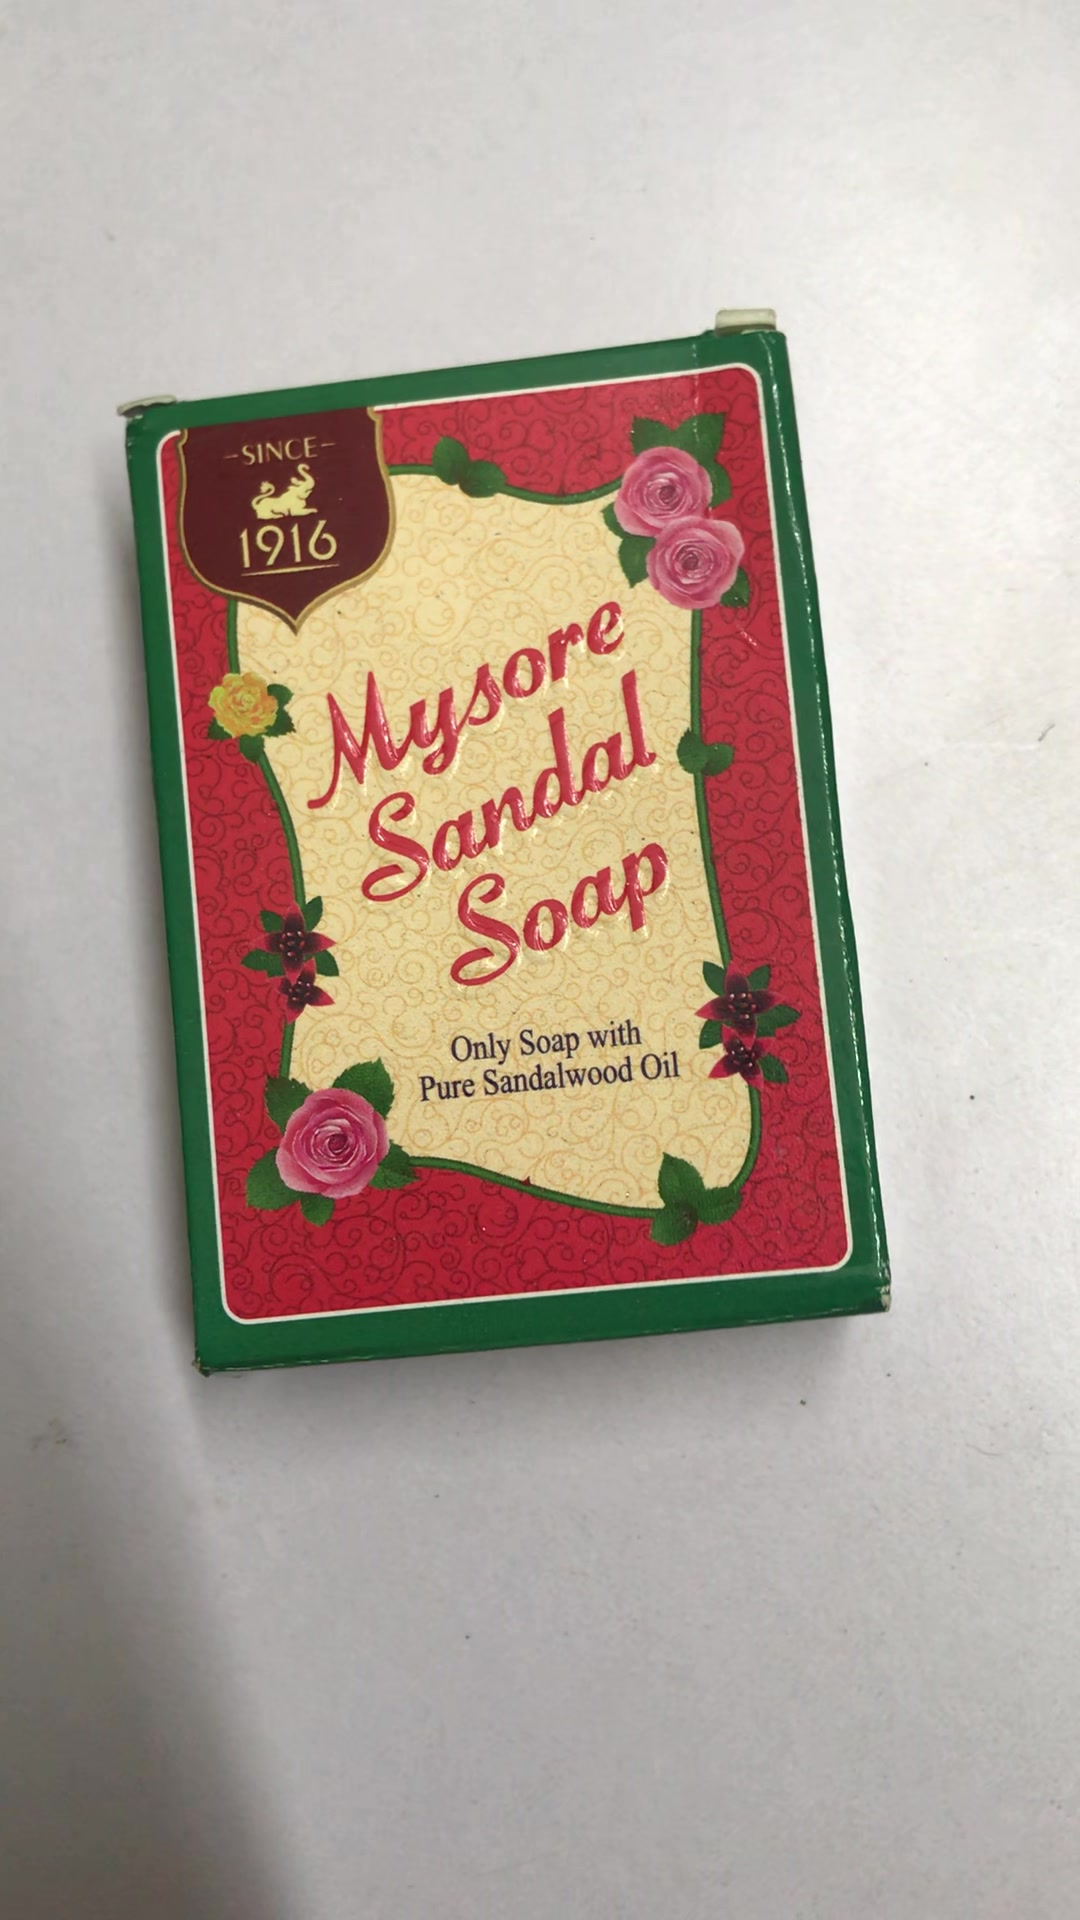mysore sandal soap: (117, 348, 882, 1381)
